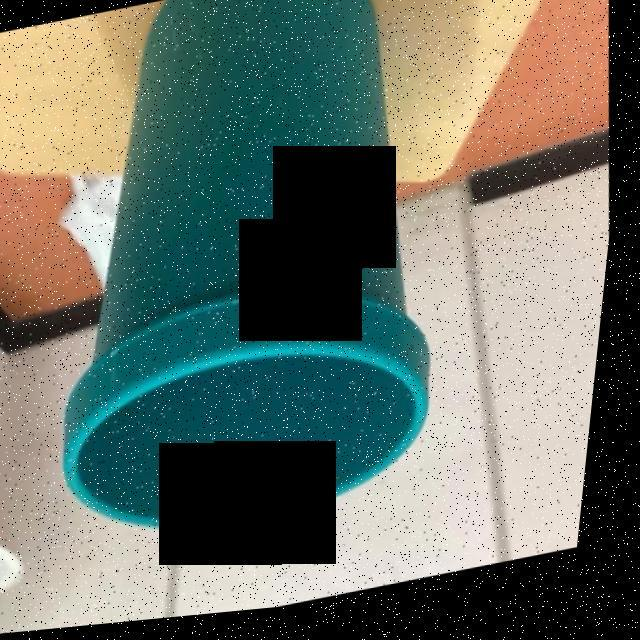bin: (5, 0, 508, 598)
